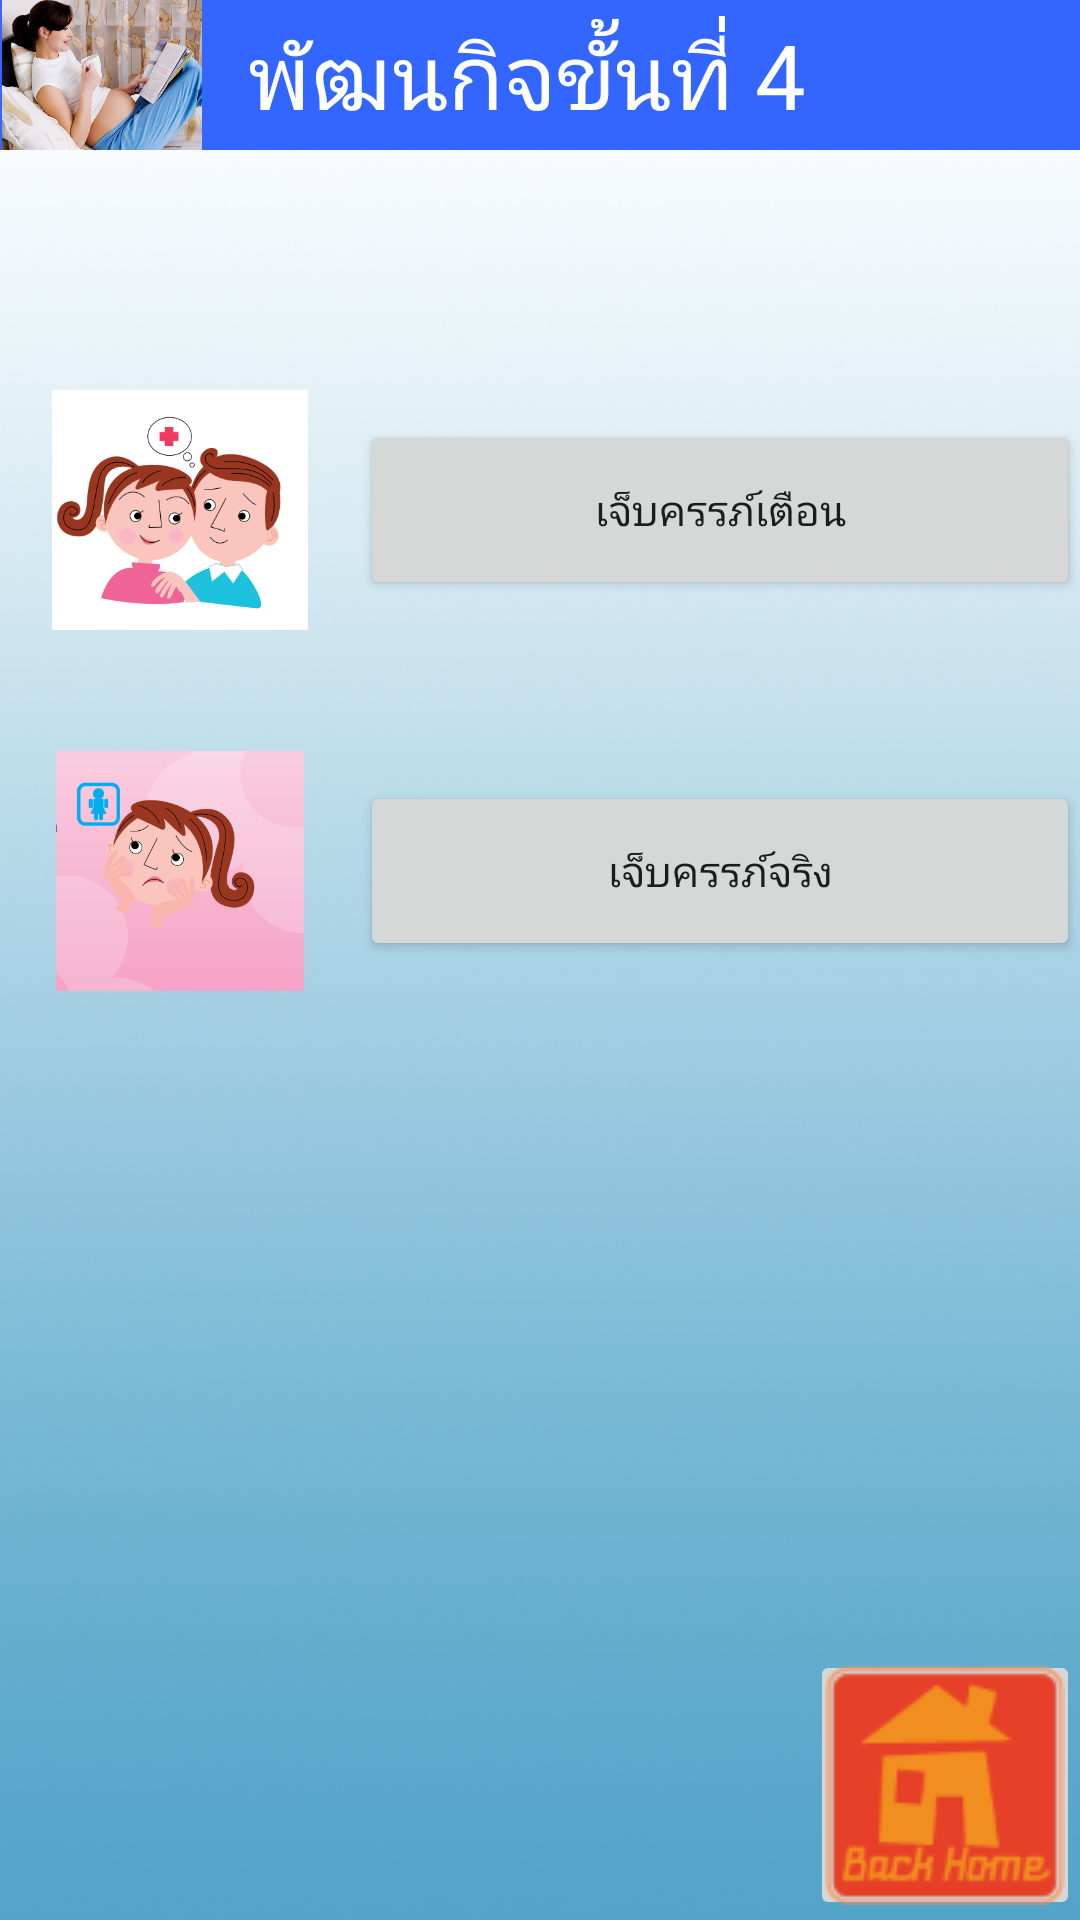

Screen size 1080 x 1920. Icon name, then its center in pixels as (x=x, y=y):
mom: (x=102, y=75)
strain: (x=180, y=871)
